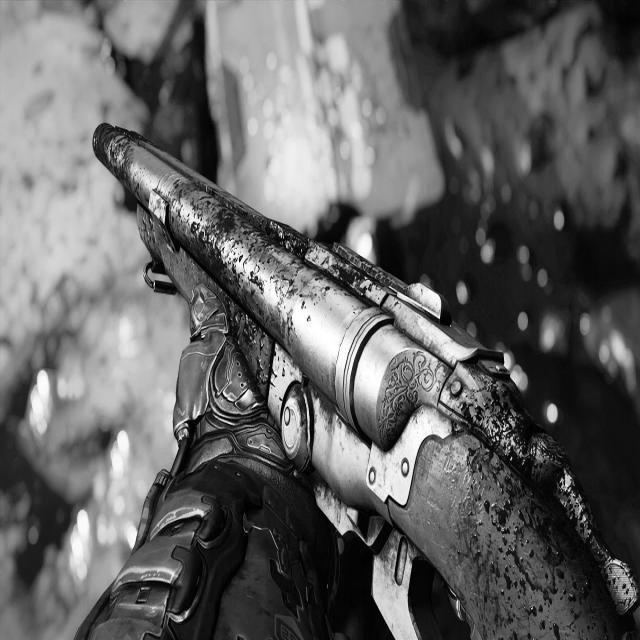Short-Gun: (77, 95, 595, 640)
